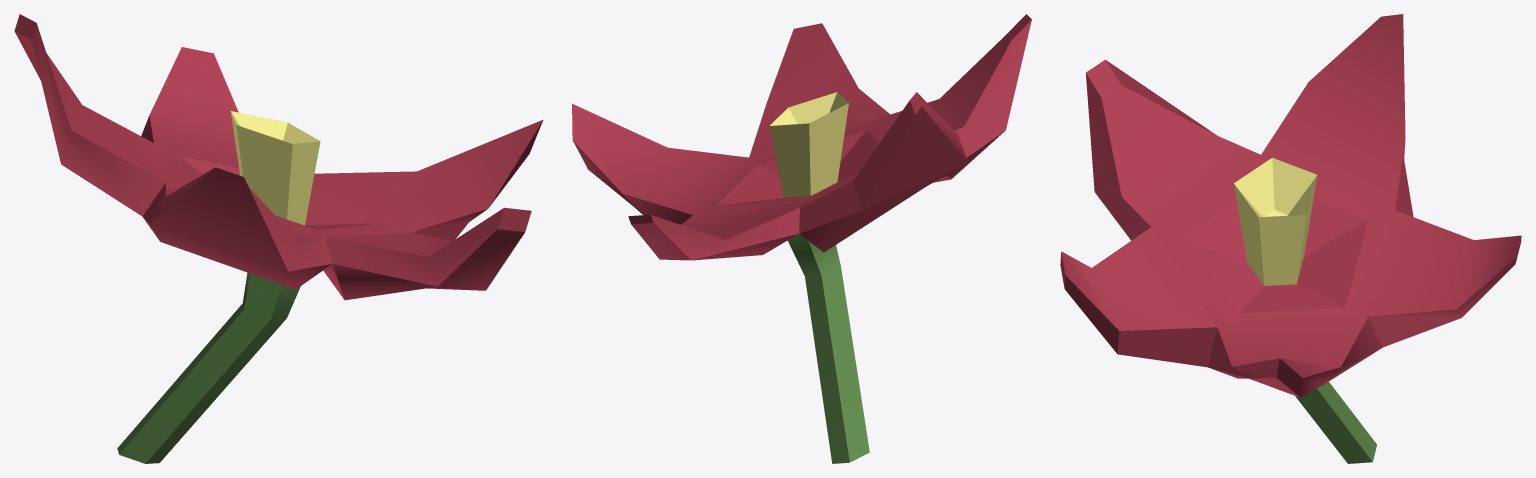
The model's file is flower.fbx.
3 renders of one model, left to right at view 1: azimuth 30°, elevation 25°; view 2: azimuth 150°, elevation 25°; view 3: azimuth 270°, elevation 25°, orthographic. The views are drawn at different scales.
Visible parts, largest first — view 1: Flower; view 2: Flower; view 3: Flower.
Part boxes in pixels (<box>): Flower: <box>14,14,543,463</box>; Flower: <box>572,14,1031,463</box>; Flower: <box>1060,14,1521,463</box>.
Size of the model in its own units: 1.7 by 1.58 by 1.64.
